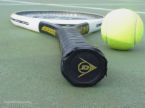tennis ball: (99, 8, 144, 51)
